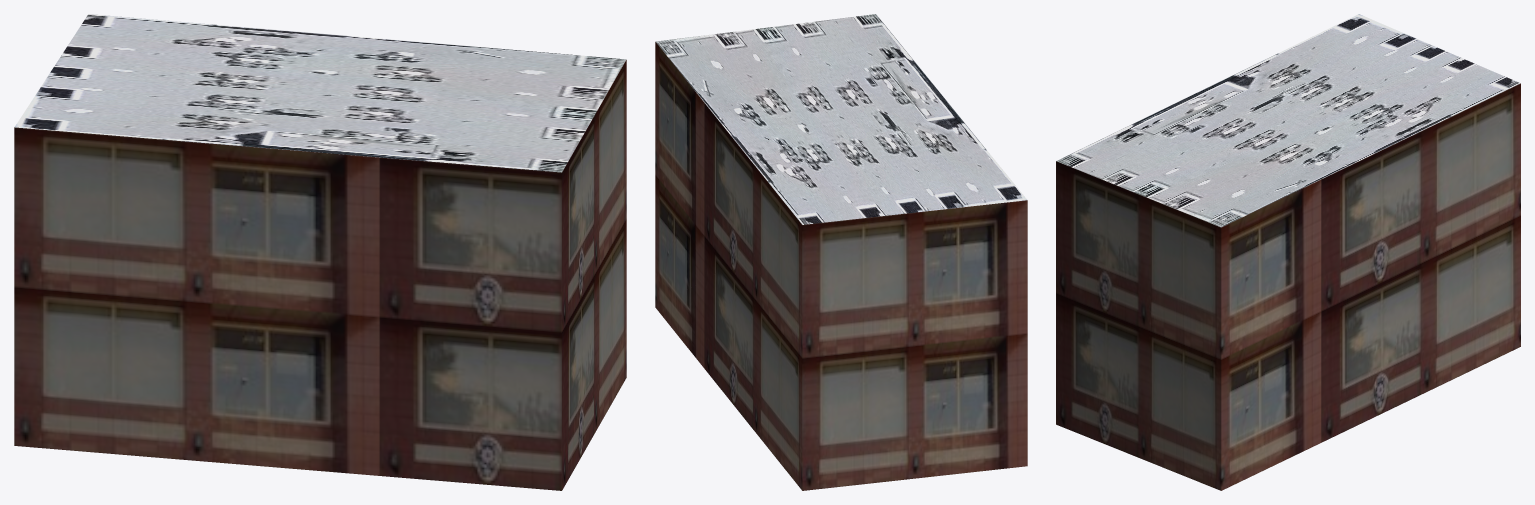
Rendered from ResTex__1630.fbx.
The picture shows the model from 3 angles, left to right: view 1: azimuth 30°, elevation 25°; view 2: azimuth 150°, elevation 25°; view 3: azimuth 270°, elevation 25°; orthographic projection. The views are drawn at different scales.
Parts seen in each view (by area): view 1: CityEngineMaterial_13_m, CityEngineMaterial_m; view 2: CityEngineMaterial_13_m, CityEngineMaterial_m; view 3: CityEngineMaterial_13_m, CityEngineMaterial_m.
Boxes of the visible parts, x1,y1,x2,y2 form: CityEngineMaterial_13_m: (14, 60, 626, 490); CityEngineMaterial_m: (15, 14, 626, 172); CityEngineMaterial_13_m: (655, 42, 1027, 490); CityEngineMaterial_m: (655, 14, 1027, 224); CityEngineMaterial_13_m: (1056, 83, 1520, 490); CityEngineMaterial_m: (1056, 14, 1520, 227).
Size of the model in its own units: 10.43 by 6 by 9.59.
2 materials, 2 textured.
